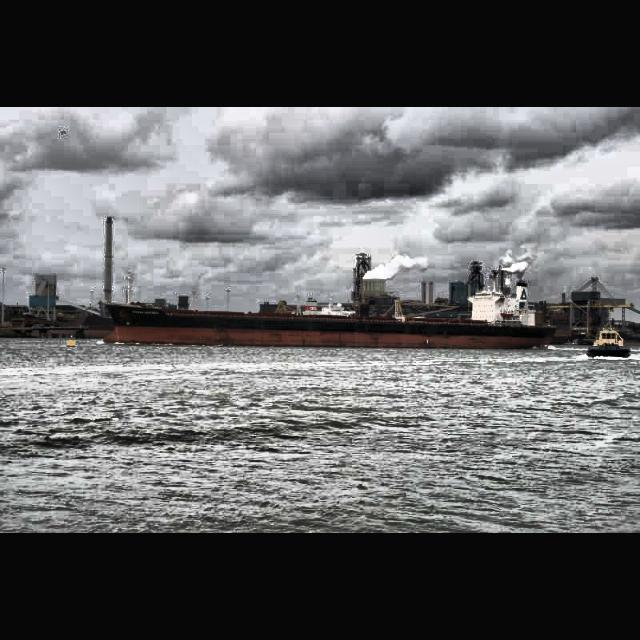bulk_carrier: (101, 253, 556, 351)
tug: (585, 319, 631, 359)
